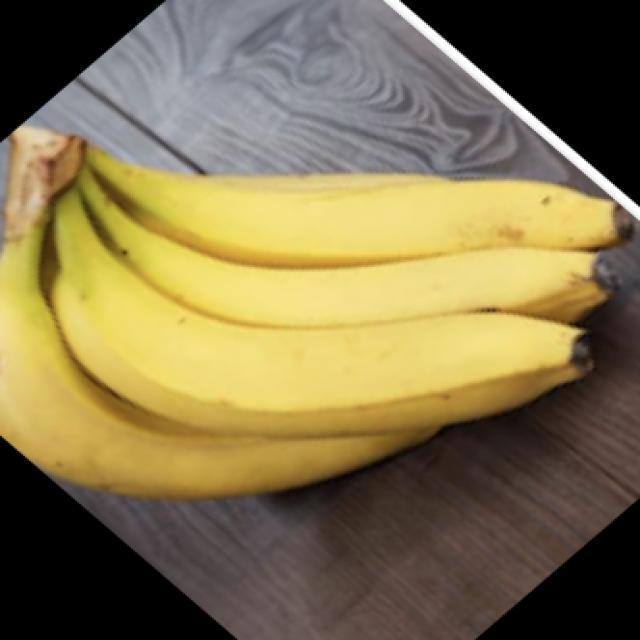Banana: (0, 124, 636, 501)
